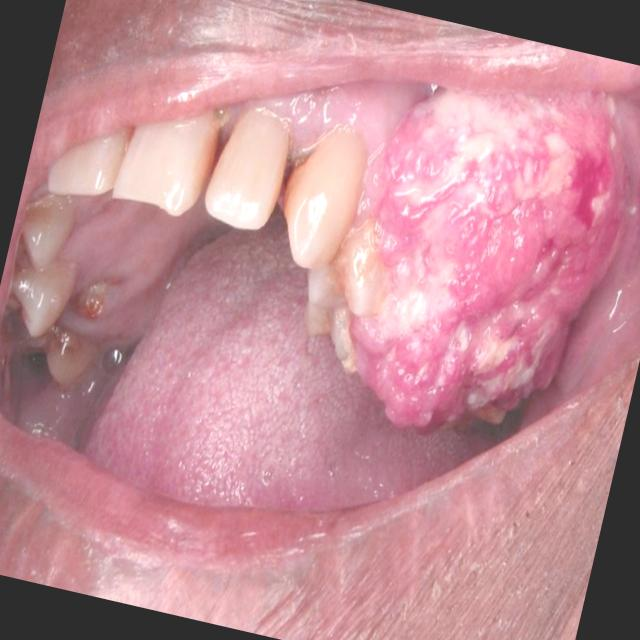Cancer: (312, 42, 640, 439)
